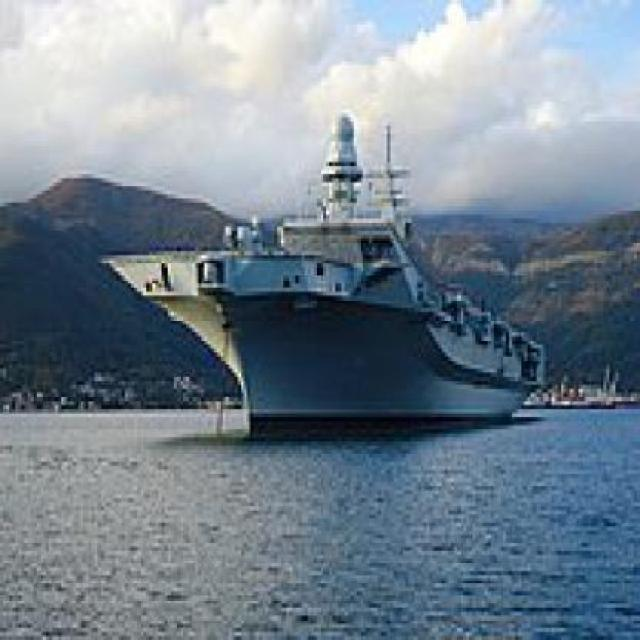warship2: (114, 99, 574, 471)
